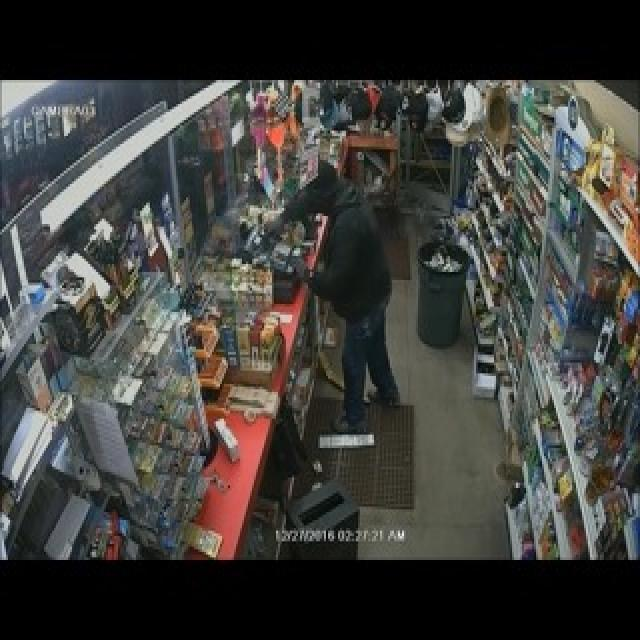thief: (286, 153, 400, 389)
